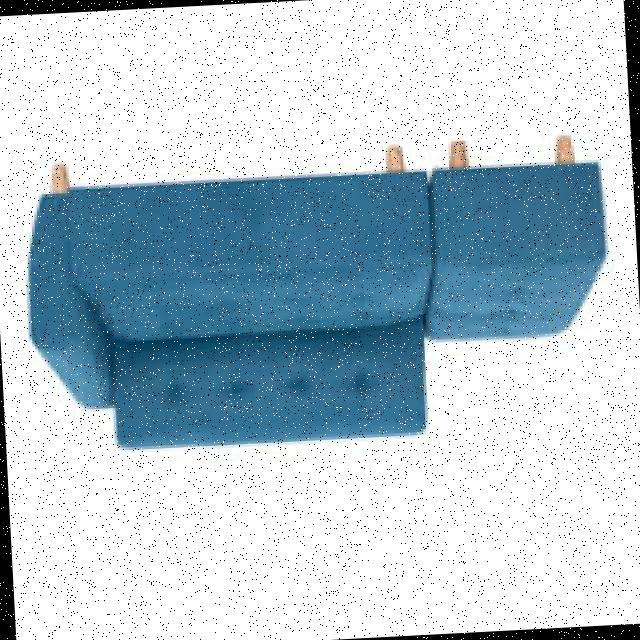Sofa: (17, 111, 638, 476)
